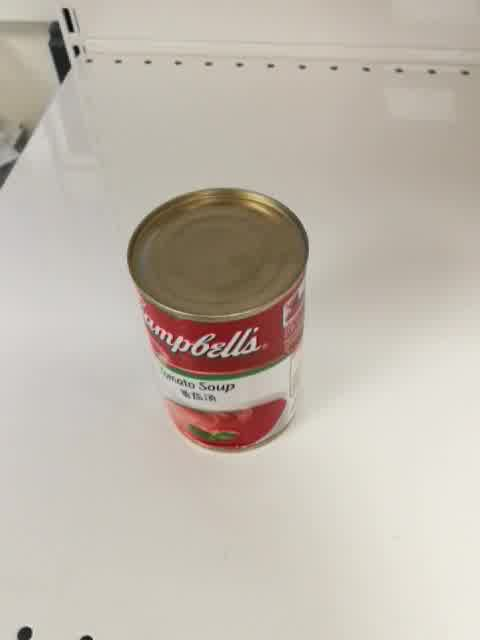tomatosoup: (125, 183, 311, 456)
